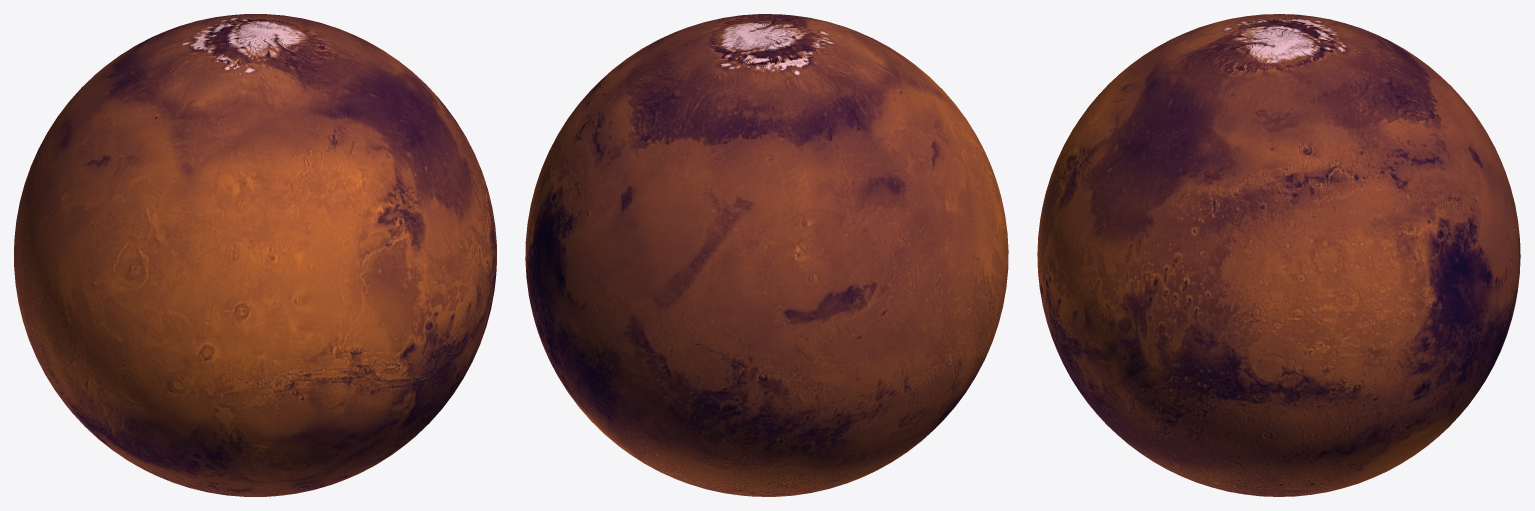
The picture shows the model from 3 angles, left to right: view 1: azimuth 30°, elevation 25°; view 2: azimuth 150°, elevation 25°; view 3: azimuth 270°, elevation 25°; orthographic projection.
Visible parts, largest first — view 1: Tierra.004; view 2: Tierra.004; view 3: Tierra.004.
Part boxes in pixels (x1,y1,x2,y2): Tierra.004: [14, 14, 496, 496]; Tierra.004: [525, 14, 1008, 496]; Tierra.004: [1037, 14, 1520, 496].
Size of the model in its own units: 18 by 18 by 18.
Materials: 1 (1 with a texture image).
